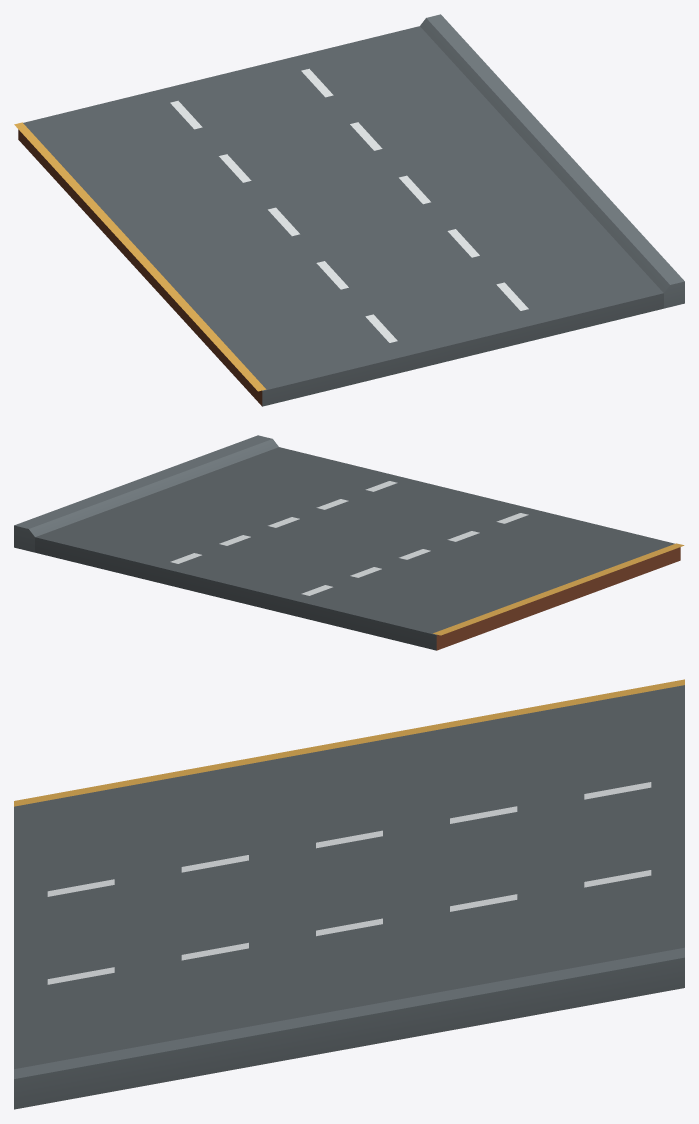
File: road_3_lanes_straight_l_slope_1.glb
3 renders of one model, top to bottom at view 1: azimuth 30°, elevation 25°; view 2: azimuth 150°, elevation 25°; view 3: azimuth 270°, elevation 25°, orthographic. The views are drawn at different scales.
Visible parts, largest first — view 1: road_3_lane_straight_l_slope_1; view 2: road_3_lane_straight_l_slope_1; view 3: road_3_lane_straight_l_slope_1.
Part boxes in pixels (x1,y1,x2,y2): road_3_lane_straight_l_slope_1: (14,14,684,406); road_3_lane_straight_l_slope_1: (14,435,684,650); road_3_lane_straight_l_slope_1: (14,679,684,1109).
Size of what is drawn, in the model's own units: 10.1 by 2.5 by 10.
Materials: 1 (1 with a texture image).
